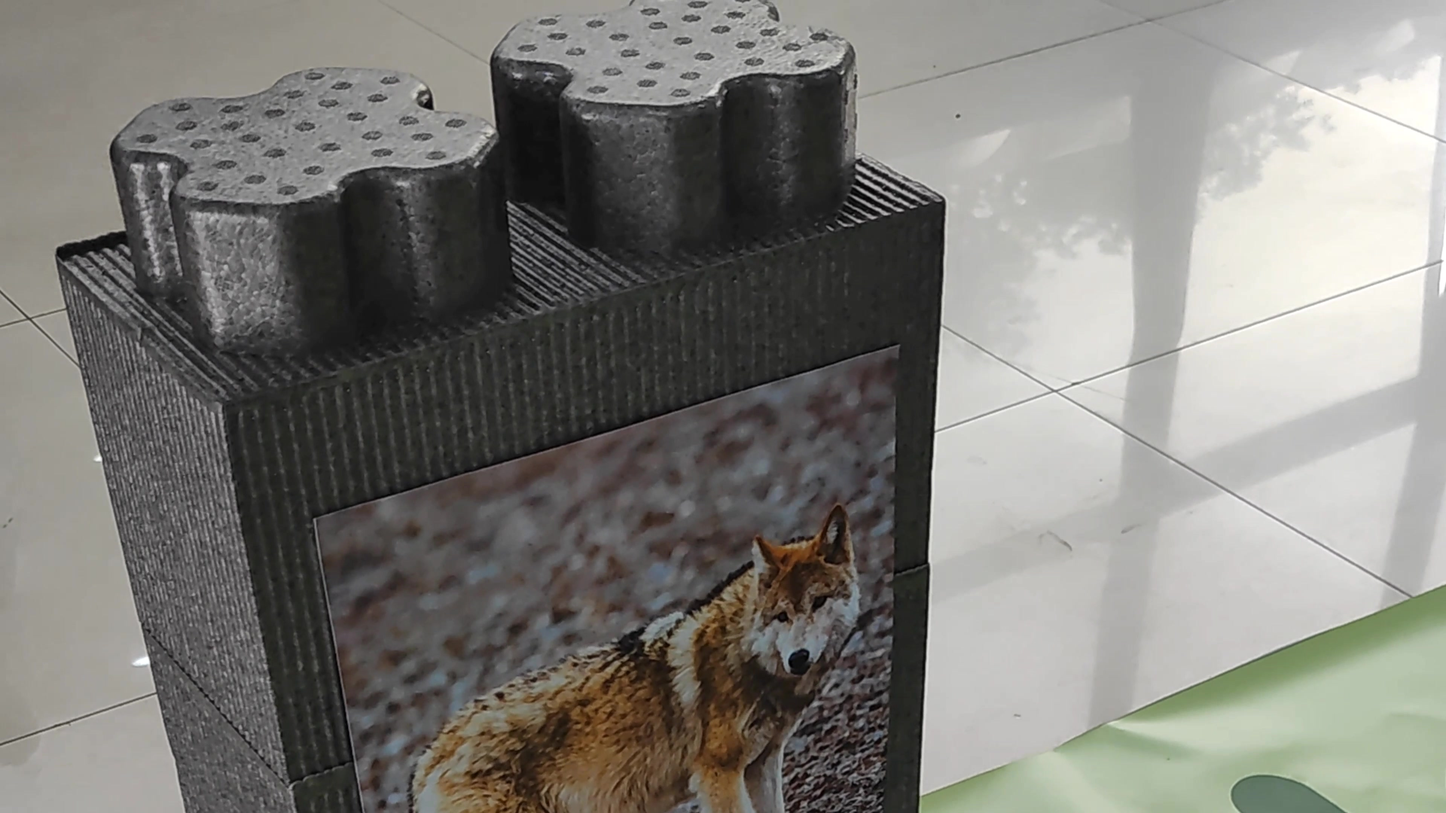wolf: (345, 463, 879, 813)
